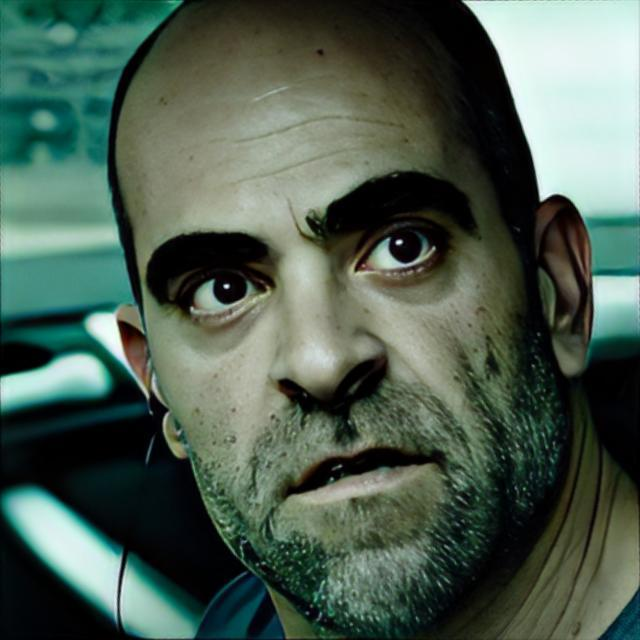fear: (107, 0, 539, 640)
